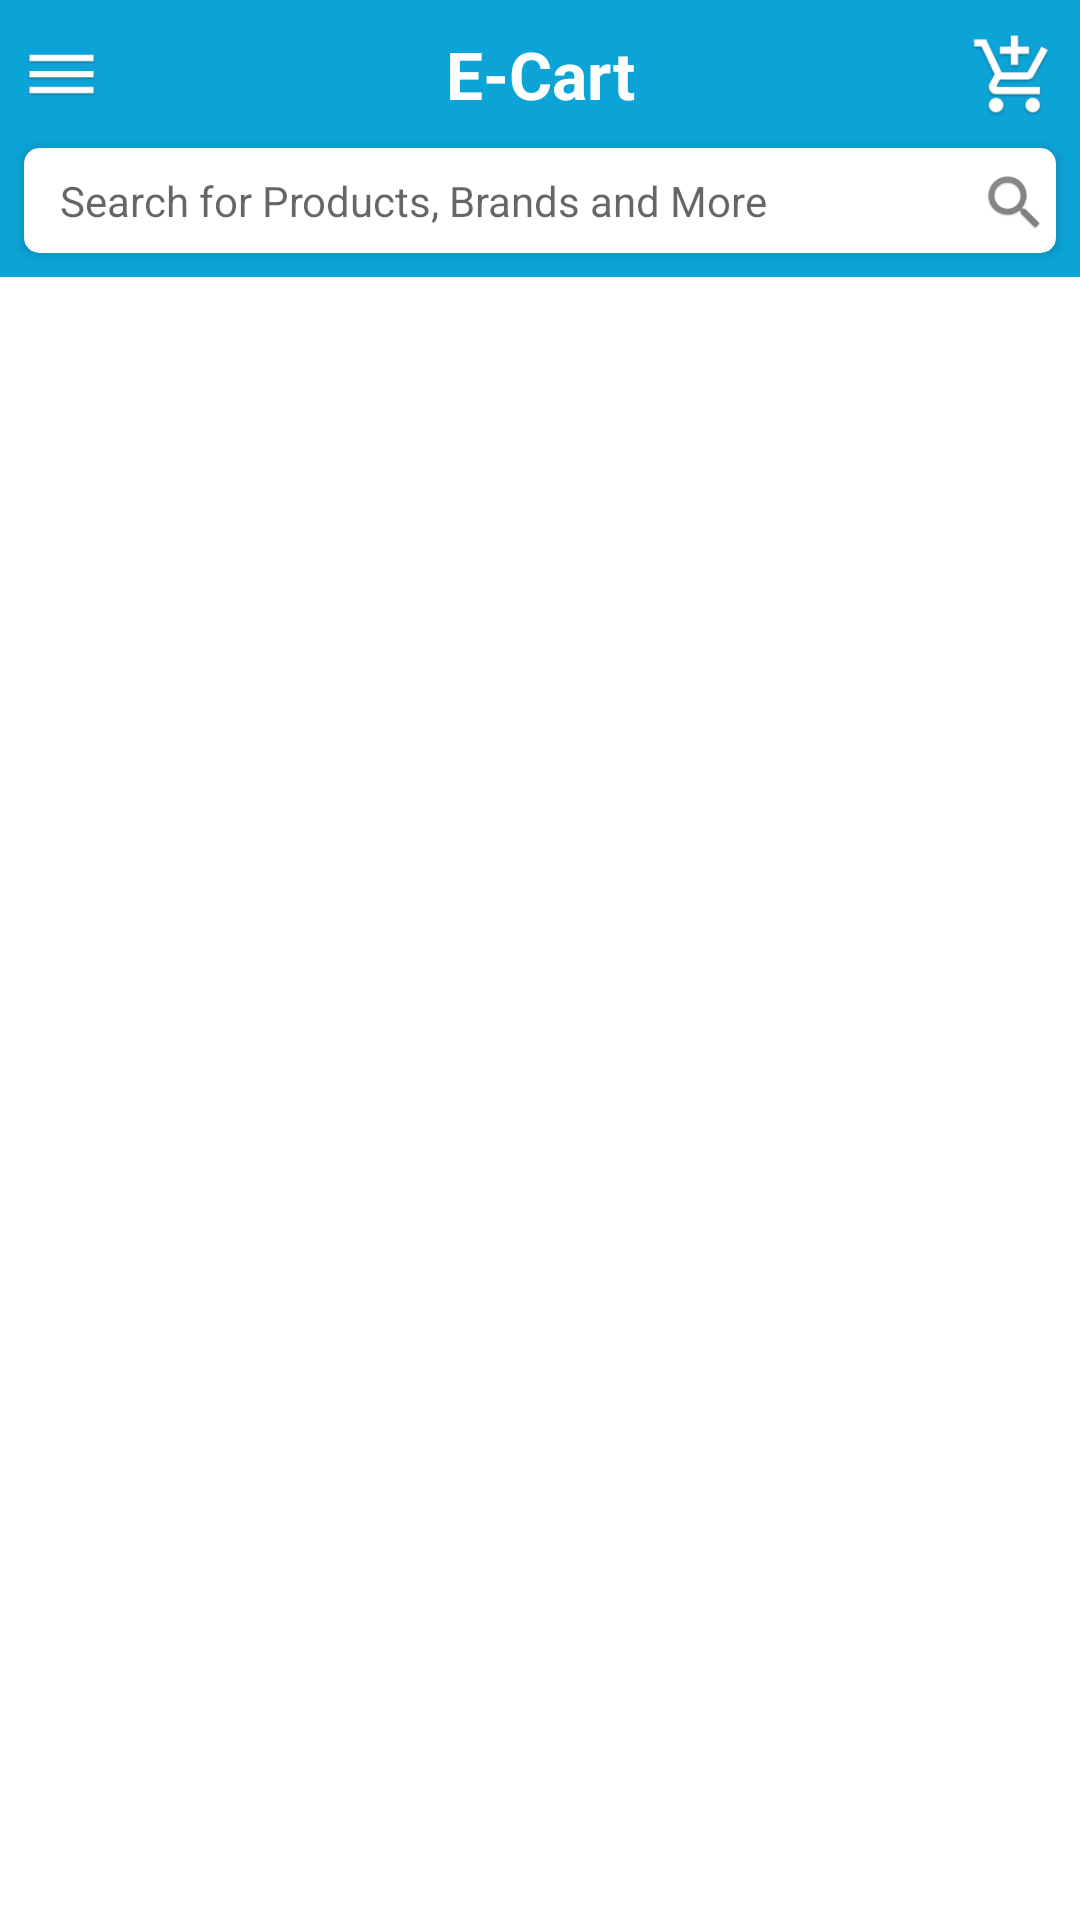

Point at icon controls on the screen. Image size 1080px x 1920px, points as [x,y].
hamburger: [61,74]
